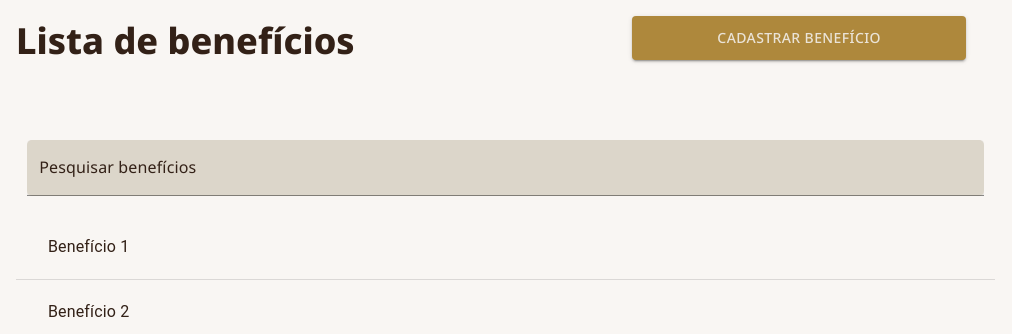
Test: BenefitsList › filters benefits based on search input
In the field labelled "Pesquisar benefícios": (506, 168) [27, 140, 984, 196], type "1"
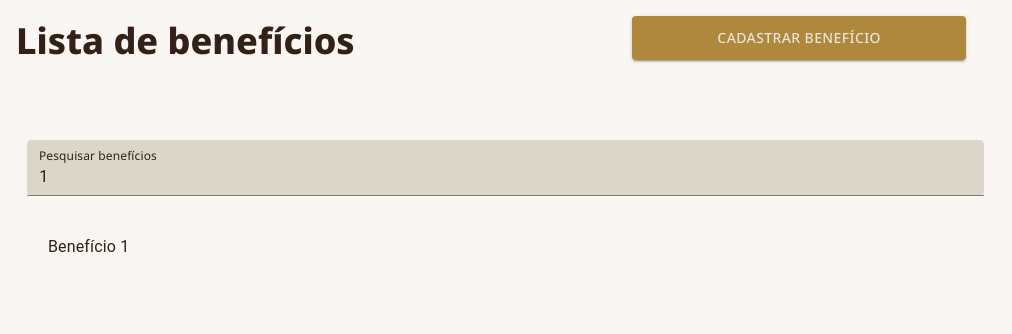
Check: the text "Benefício 1" is shown, box [48, 237, 129, 256]
Check: the button "Benefício 2" is gone
